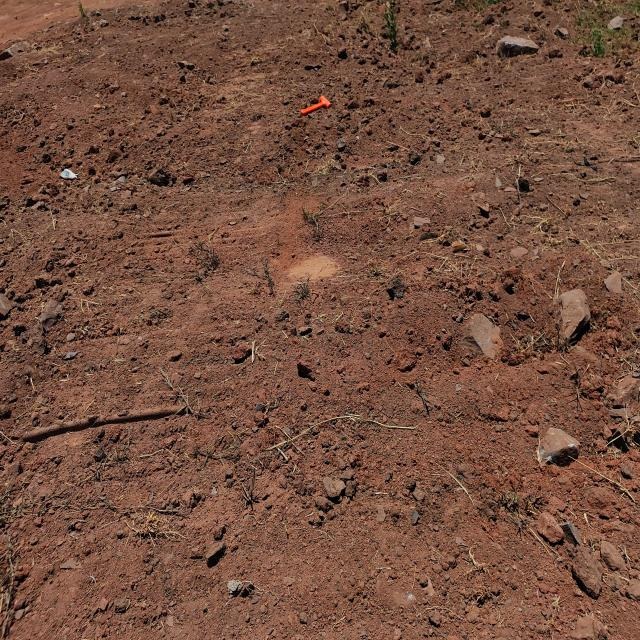Orange_hammer: (300, 94, 331, 116)
